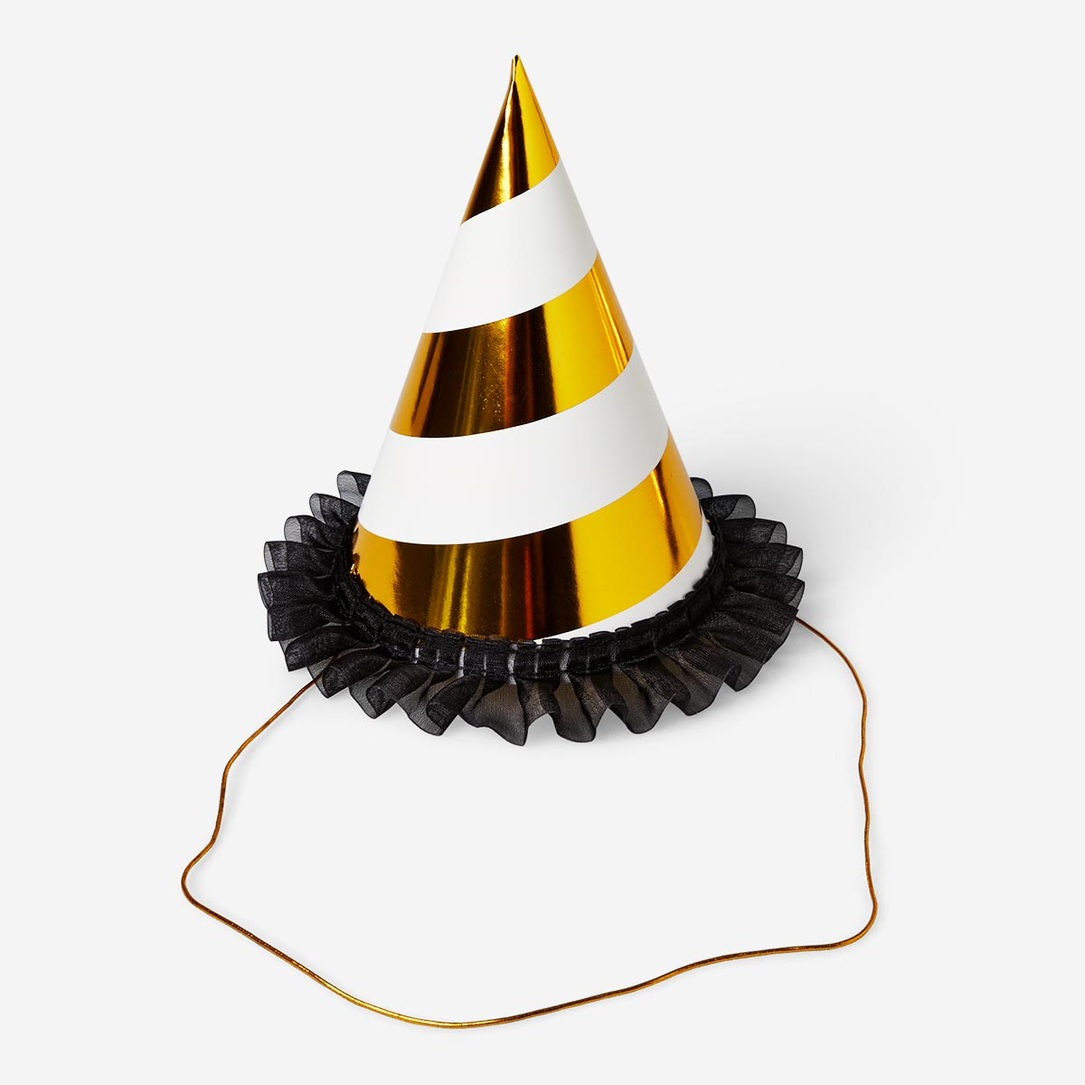cone: (351, 55, 714, 644)
